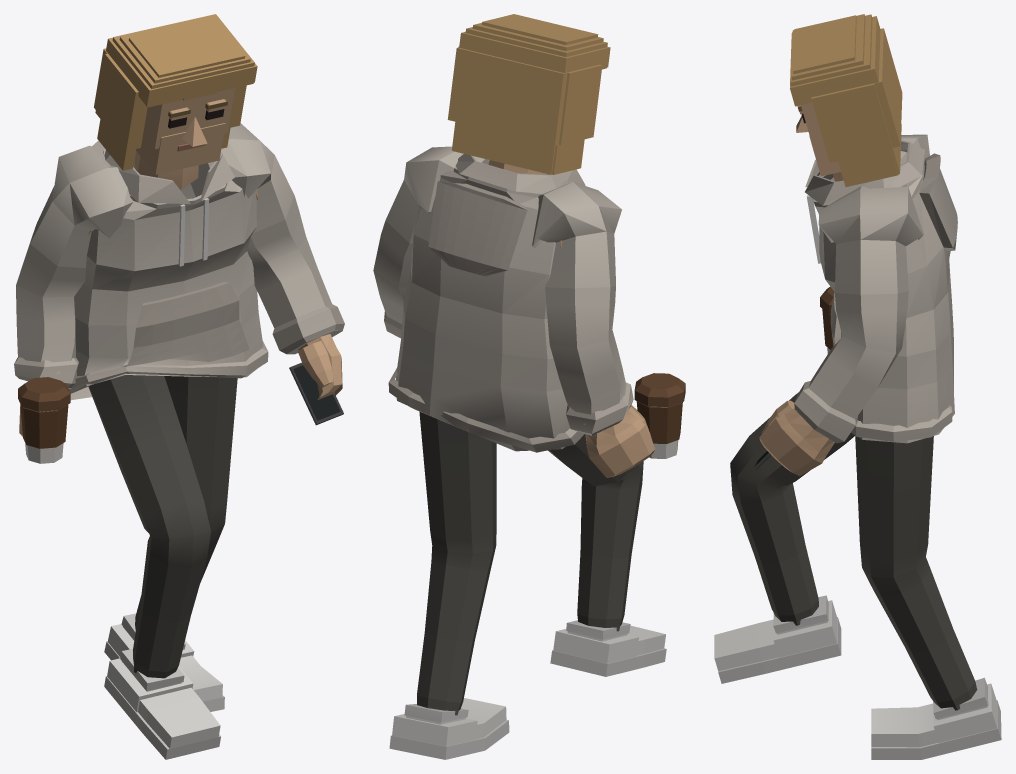
File: student-in-a-hoodie-7c8223__walk3.glb
3 views of the same model, side by side, from view 1: azimuth 30°, elevation 25°; view 2: azimuth 150°, elevation 25°; view 3: azimuth 270°, elevation 25° (orthographic).
Visible parts, largest first — view 1: student-in-a-hoodie-7c8223__walk3; view 2: student-in-a-hoodie-7c8223__walk3; view 3: student-in-a-hoodie-7c8223__walk3.
Boxes of the visible parts, <box> form: student-in-a-hoodie-7c8223__walk3: <box>14,14,344,759</box>; student-in-a-hoodie-7c8223__walk3: <box>373,14,685,759</box>; student-in-a-hoodie-7c8223__walk3: <box>714,14,1001,759</box>.
Size of the model in its own units: 0.8007 by 1.74 by 0.65.
